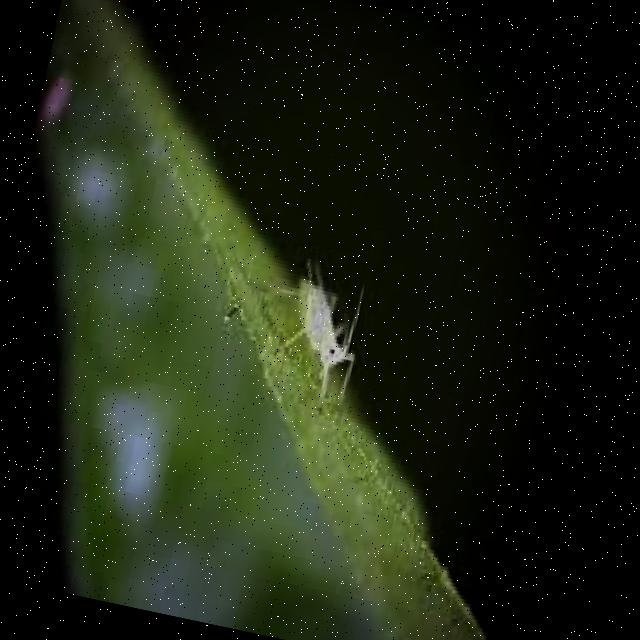whitefly: (258, 242, 386, 413)
